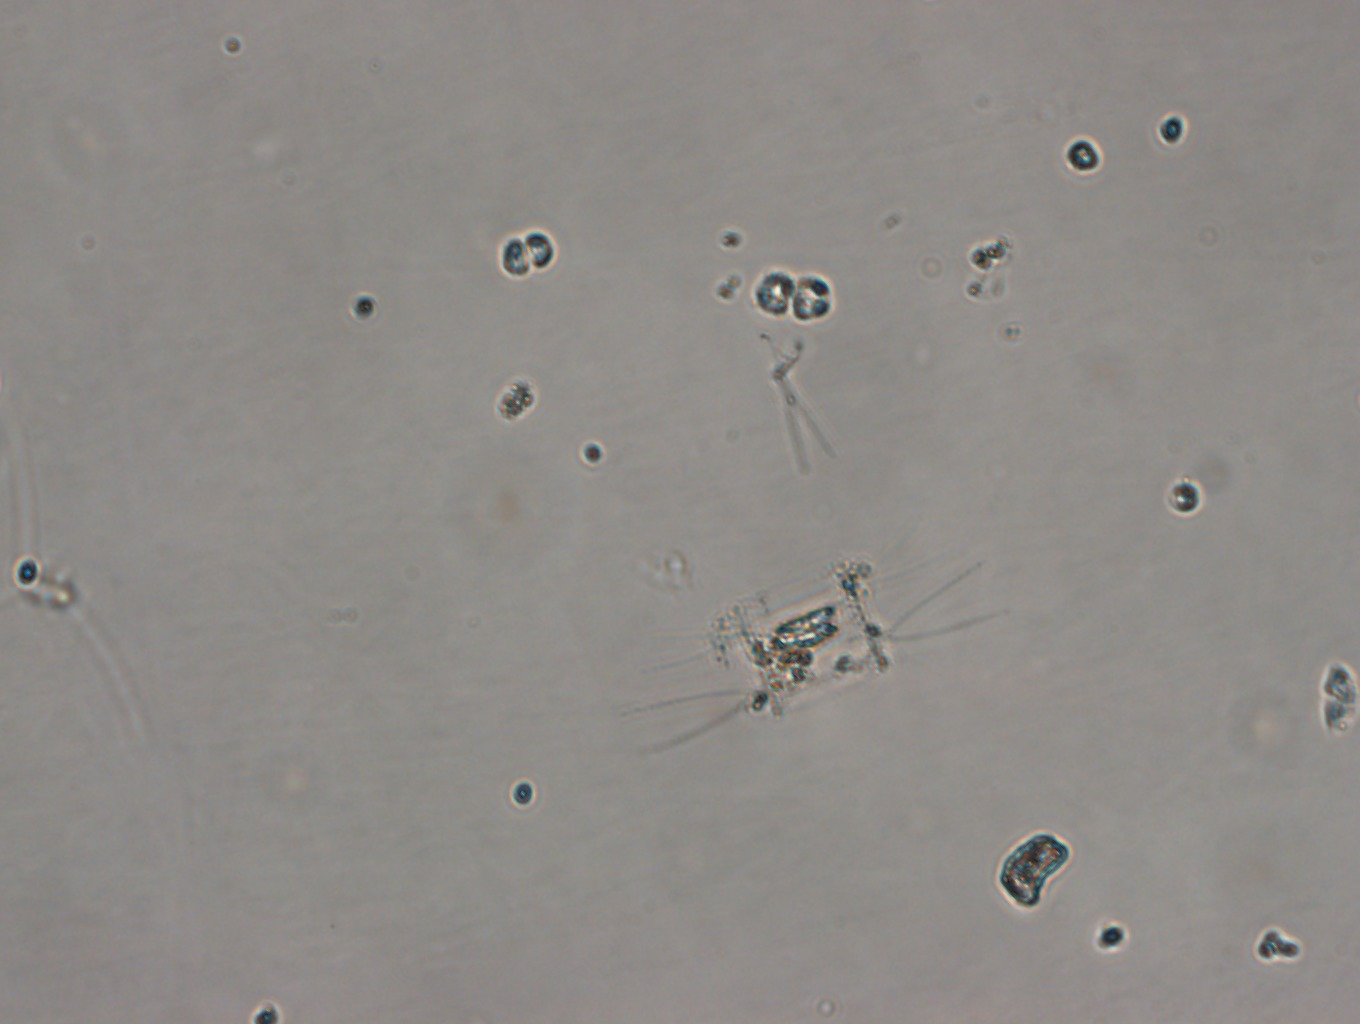chaetoceros: (635, 547, 997, 757)
